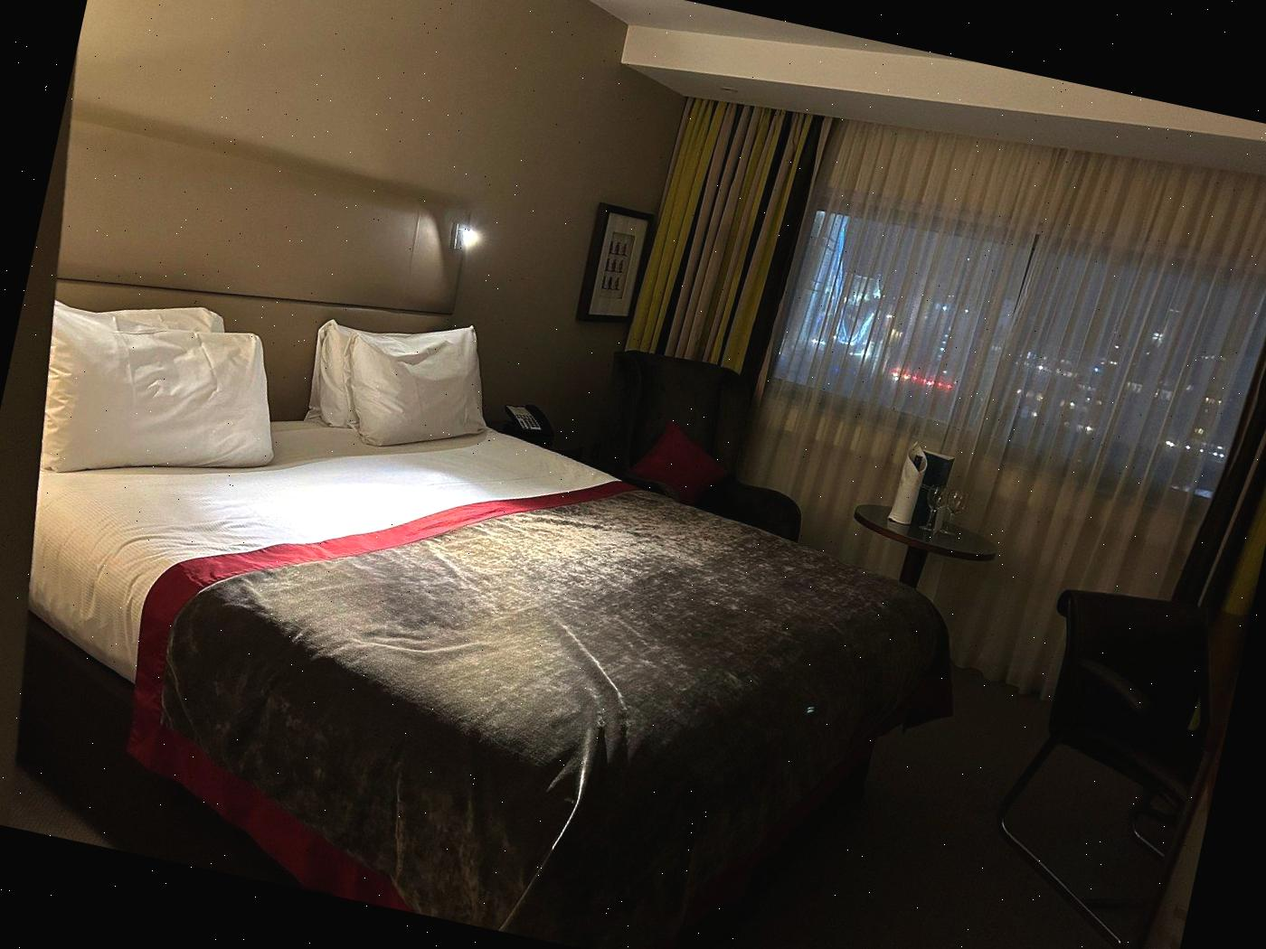chair: (991, 595, 1205, 949), (592, 354, 801, 534)
clean_bed: (25, 279, 946, 943)
organised_pillow: (47, 304, 272, 470), (313, 321, 485, 448)
organized table: (849, 450, 994, 596)
